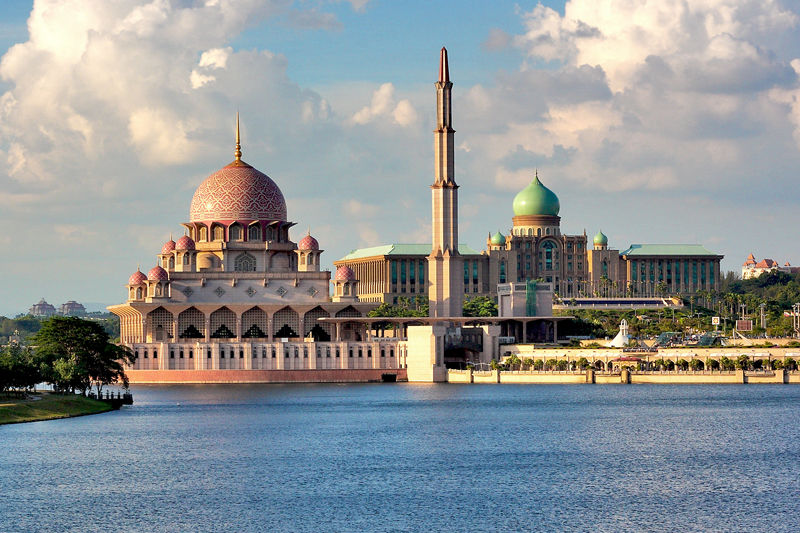Mosque: (103, 46, 721, 377)
